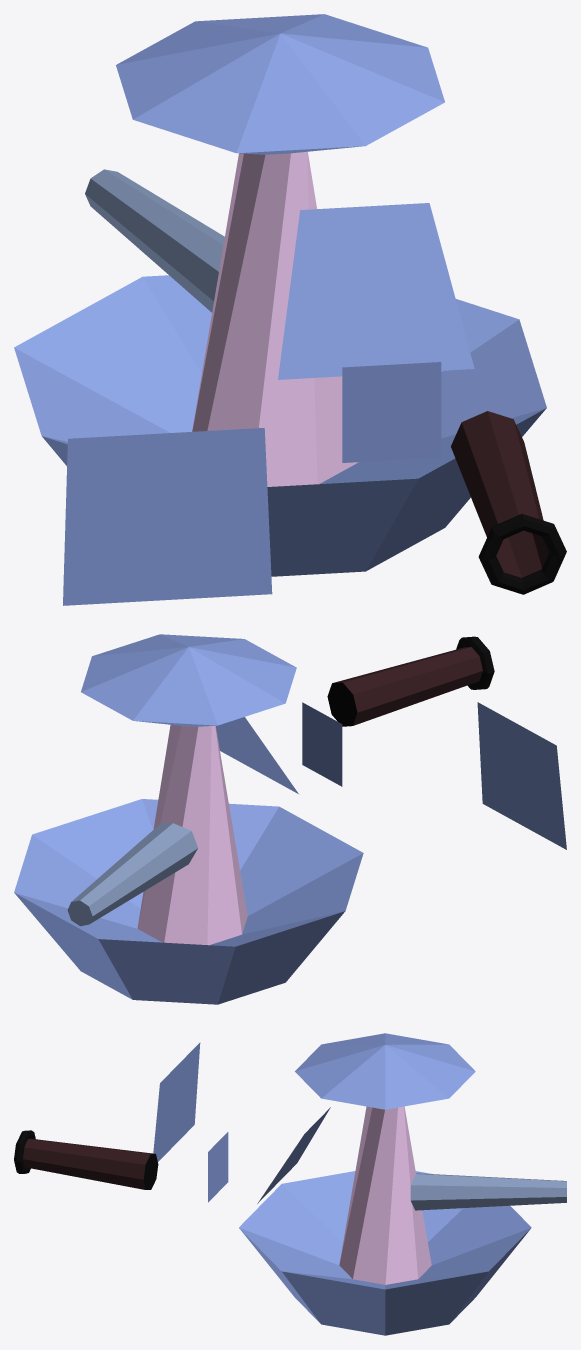
Rendered from boss1.fbx.
3 renders of one model, top to bottom at view 1: azimuth 30°, elevation 25°; view 2: azimuth 150°, elevation 25°; view 3: azimuth 270°, elevation 25°, orthographic. The views are drawn at different scales.
Parts seen in each view (by area): view 1: Boss, lowerShield, upper shield, Cannon, InnerShield, Cylinder; view 2: Boss, lowerShield, Cannon, Cylinder, InnerShield, upper shield; view 3: Boss, Cannon, Cylinder, lowerShield, InnerShield, upper shield.
Part boxes in pixels (x1=…): Boss: x1=14, y1=14, x2=546, y2=576; lowerShield: x1=63, y1=428, x2=272, y2=605; upper shield: x1=278, y1=203, x2=474, y2=379; Cannon: x1=451, y1=411, x2=566, y2=594; InnerShield: x1=342, y1=362, x2=441, y2=462; Cylinder: x1=85, y1=169, x2=224, y2=312; Boss: x1=14, y1=634, x2=363, y2=1004; lowerShield: x1=477, y1=702, x2=566, y2=849; Cannon: x1=327, y1=636, x2=494, y2=726; Cylinder: x1=67, y1=823, x2=197, y2=926; InnerShield: x1=302, y1=702, x2=342, y2=786; upper shield: x1=216, y1=717, x2=298, y2=793; Boss: x1=239, y1=1033, x2=531, y2=1335; Cannon: x1=14, y1=1130, x2=158, y2=1189; Cylinder: x1=410, y1=1173, x2=566, y2=1210; lowerShield: x1=153, y1=1042, x2=200, y2=1161; InnerShield: x1=208, y1=1132, x2=228, y2=1202; upper shield: x1=257, y1=1107, x2=330, y2=1203.
Bounding box in the file's own units: 253 × 200 × 359.
